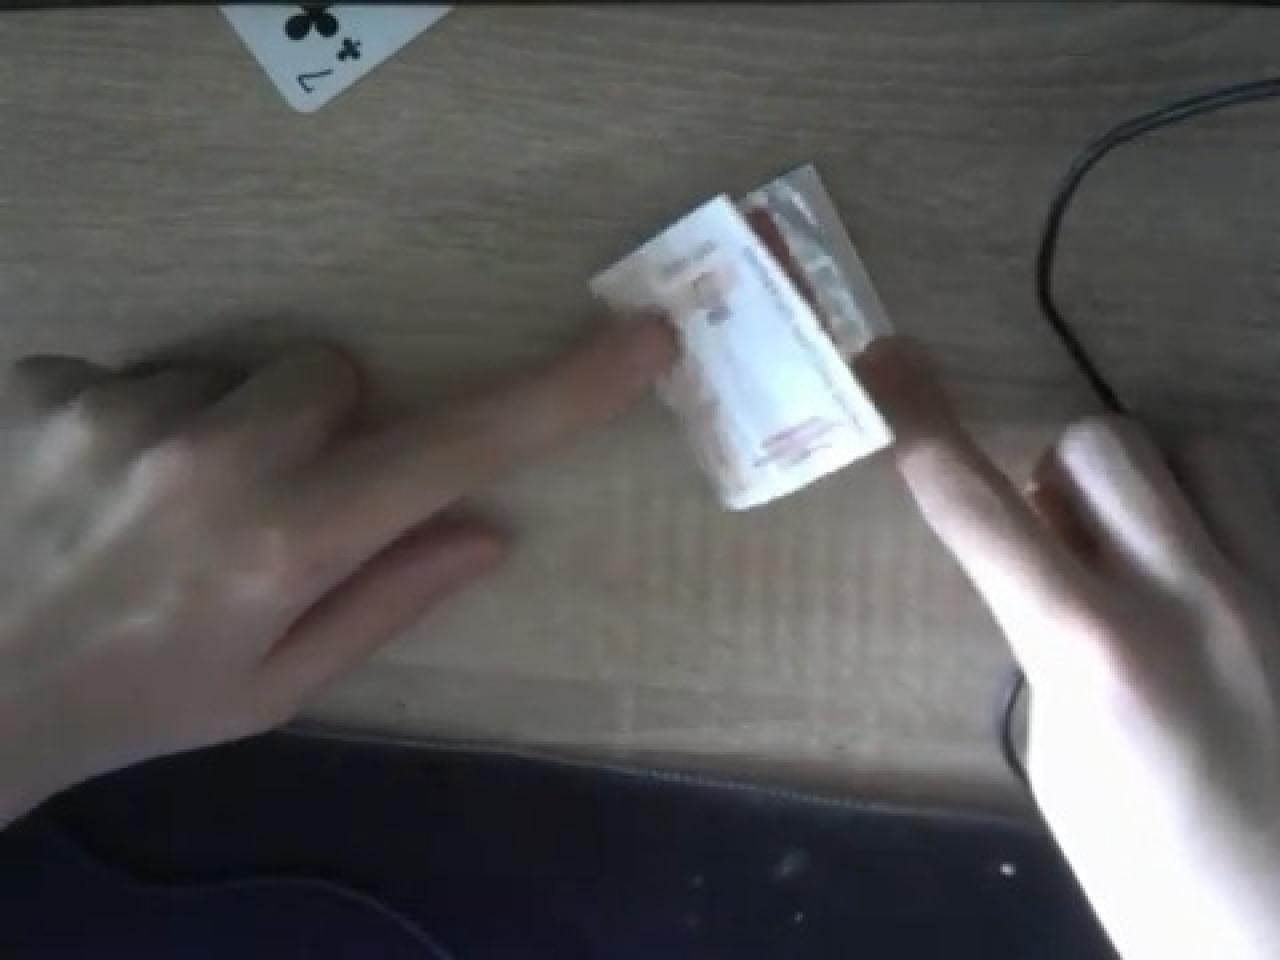5leva: (587, 162, 899, 509)
